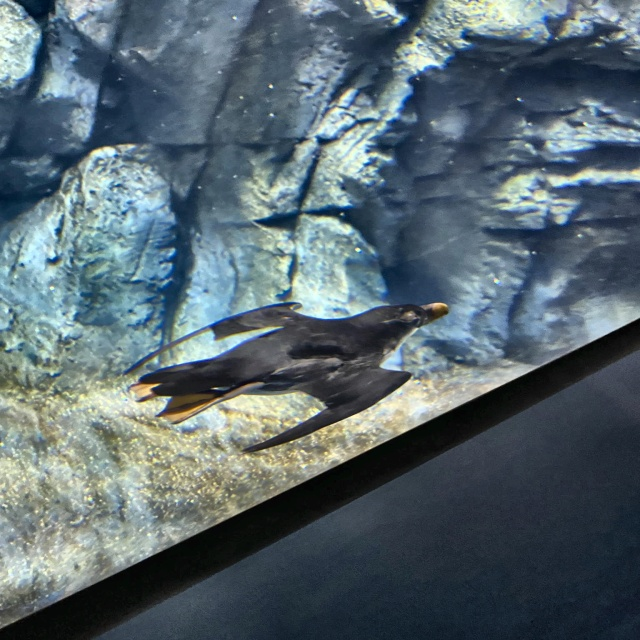puffin: (122, 301, 449, 453)
